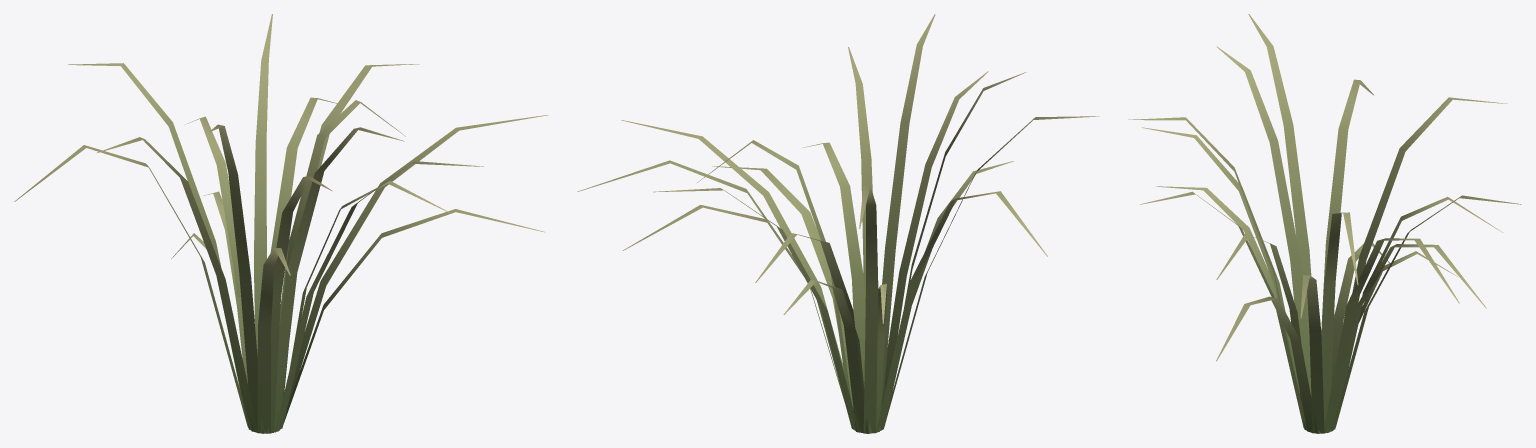
File: marram.glb
The picture shows the model from 3 angles, left to right: view 1: azimuth 30°, elevation 25°; view 2: azimuth 150°, elevation 25°; view 3: azimuth 270°, elevation 25°; orthographic projection. The views are drawn at different scales.
Parts seen in each view (by area): view 1: marram; view 2: marram; view 3: marram.
Boxes of the visible parts, bbox=[...] form: marram: bbox=[14, 14, 548, 433]; marram: bbox=[577, 14, 1099, 433]; marram: bbox=[1128, 14, 1521, 433].
Bounding box in the file's own units: 1.03 × 0.7266 × 0.7843.
